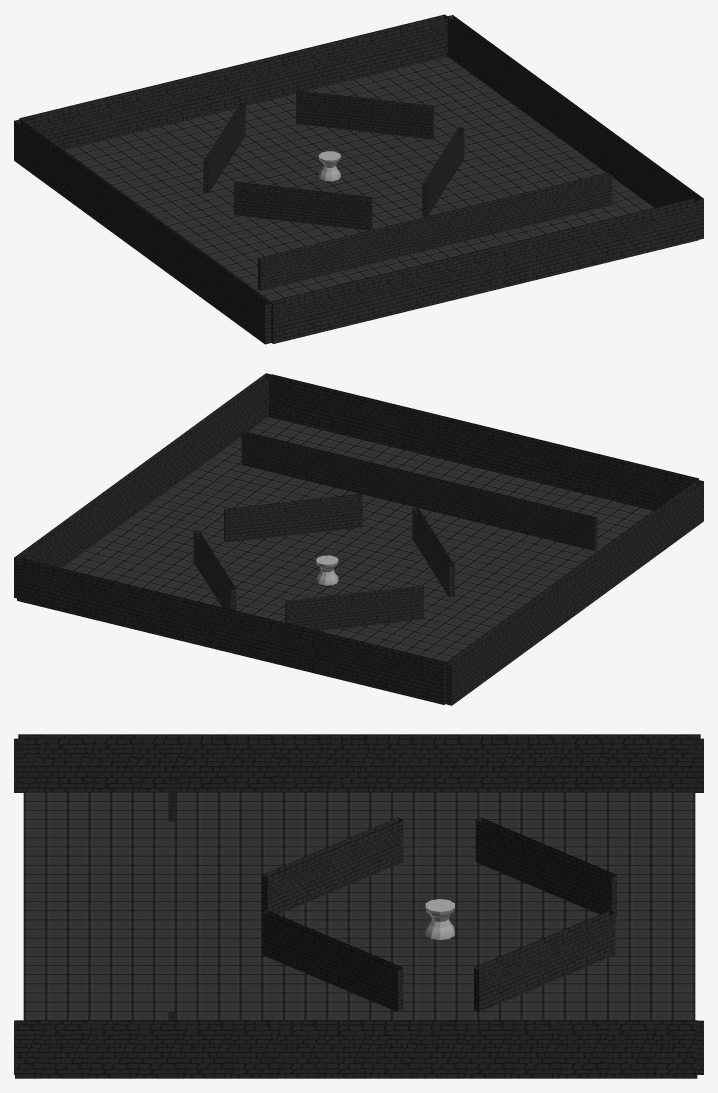
The model's file is new_level.fbx.
3 views of the same model, one above another, from view 1: azimuth 30°, elevation 25°; view 2: azimuth 150°, elevation 25°; view 3: azimuth 270°, elevation 25° (orthographic). The views are drawn at different scales.
Visible parts, largest first — view 1: polySurface1, polySurface17, polySurface16, polySurface11, polySurface15, polySurface13, pCylinder1; view 2: polySurface1, polySurface17, polySurface13, polySurface15, polySurface16, polySurface11, pCylinder1; view 3: polySurface1, polySurface11, polySurface13, polySurface15, polySurface16, pCylinder1.
Boxes of the visible parts, x1,y1,x2,y2 form: polySurface1: (14, 14, 703, 344); polySurface17: (258, 172, 612, 290); polySurface16: (234, 182, 372, 230); polySurface11: (296, 90, 433, 139); polySurface15: (203, 104, 245, 193); polySurface13: (422, 127, 464, 216); pCylinder1: (318, 151, 340, 181); polySurface1: (14, 373, 703, 705); polySurface17: (241, 431, 597, 550); polySurface13: (224, 493, 362, 542); polySurface15: (285, 585, 423, 630); polySurface16: (412, 507, 454, 597); polySurface11: (193, 530, 236, 610); pCylinder1: (316, 555, 338, 585); polySurface1: (14, 734, 703, 1078); polySurface11: (474, 910, 615, 1012); polySurface13: (262, 910, 403, 1012); polySurface15: (475, 817, 616, 917); polySurface16: (262, 817, 403, 914); pCylinder1: (425, 899, 454, 939).
Bounding box in the file's own units: 224 × 19.71 × 225.
3 materials, 2 textured.
